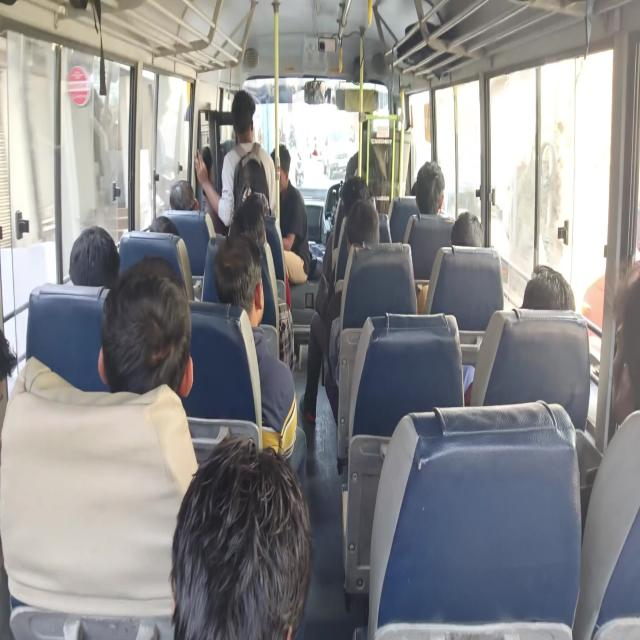person: (186, 461, 392, 640), (119, 256, 244, 464), (581, 263, 640, 462), (0, 330, 36, 573), (528, 252, 578, 357), (338, 203, 402, 284), (444, 198, 498, 278), (82, 219, 135, 300), (218, 240, 270, 318), (234, 194, 270, 251), (237, 186, 278, 233), (412, 161, 447, 215), (229, 93, 261, 150), (170, 174, 208, 221), (147, 210, 186, 254), (274, 130, 300, 177), (405, 171, 436, 200), (198, 146, 226, 178), (336, 168, 362, 201)
